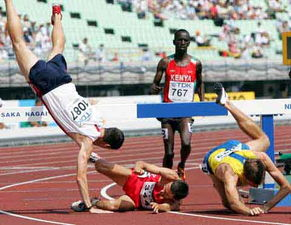fall: (0, 7, 133, 198)
